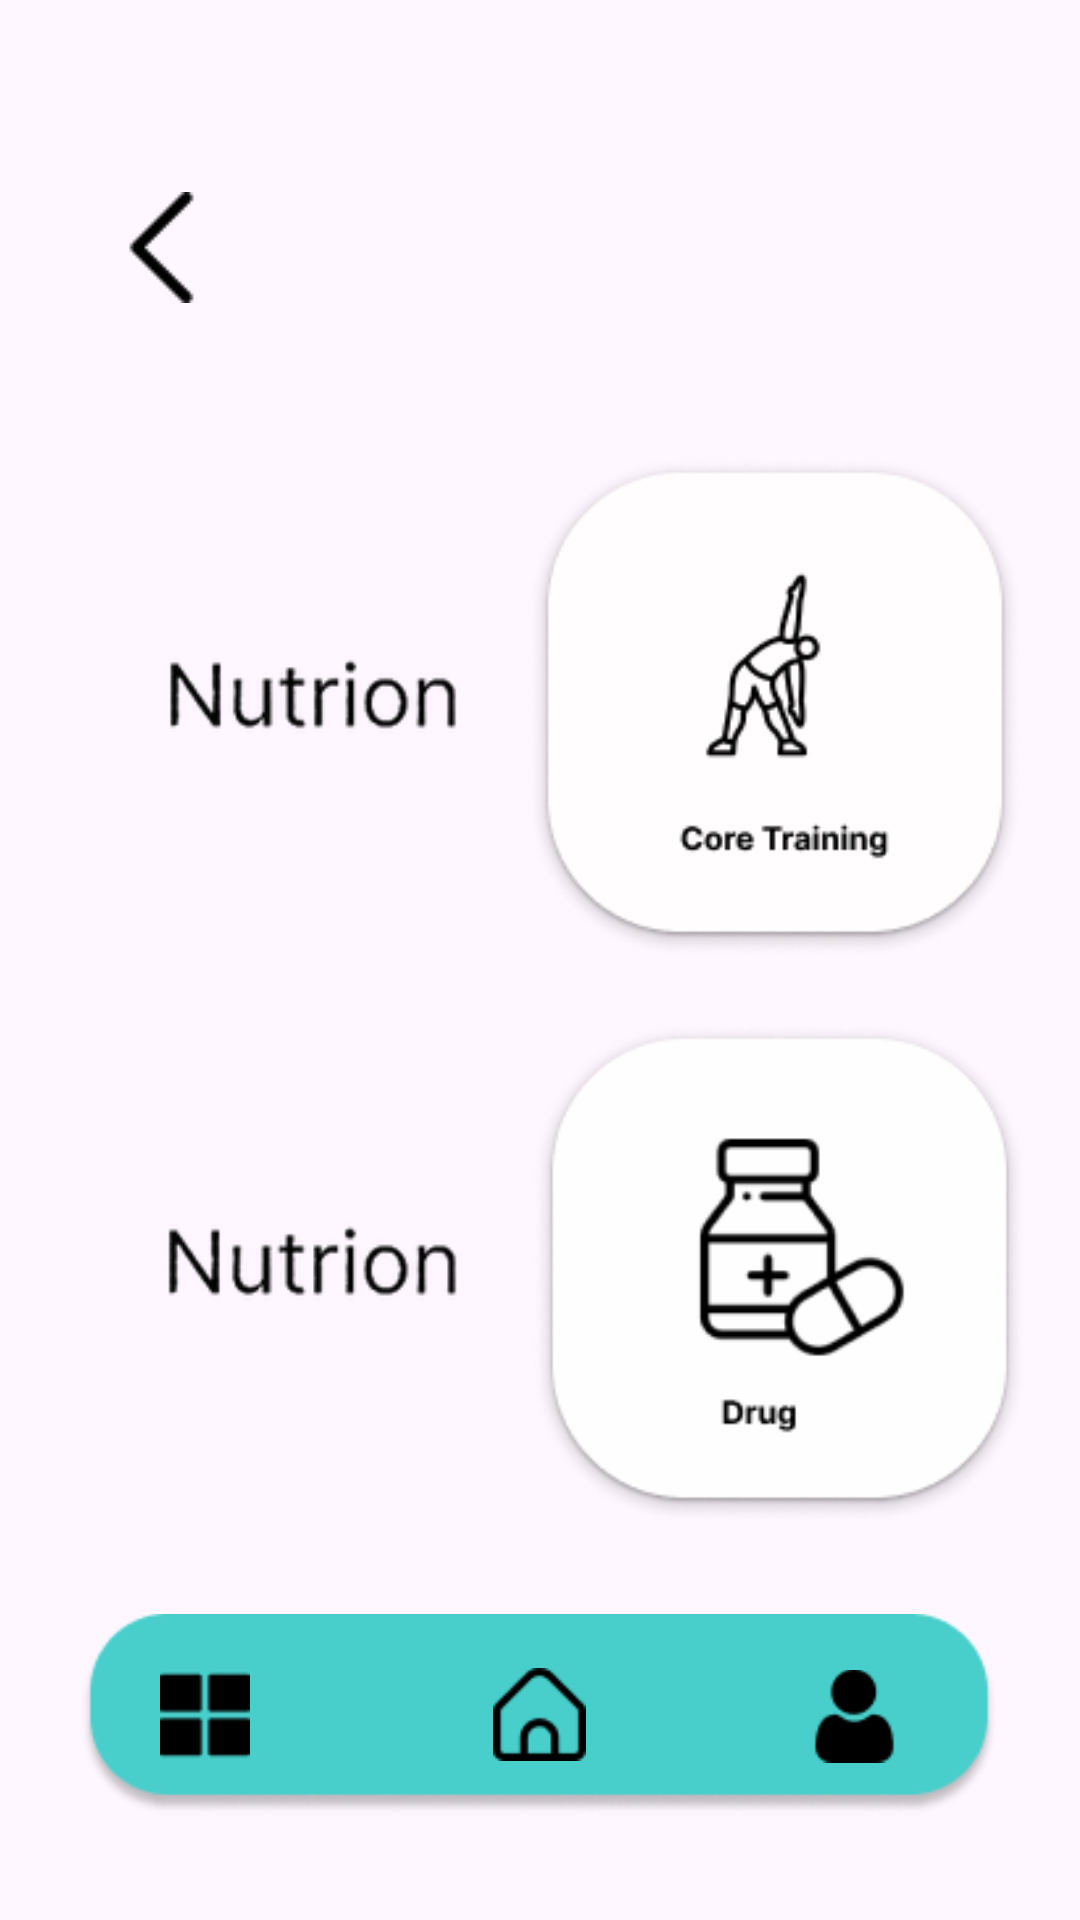

Icons on this 1080 × 1920 Android screen, each with its box as bbox(x1, y1, x2, y2):
iconback: bbox(129, 192, 194, 303)
